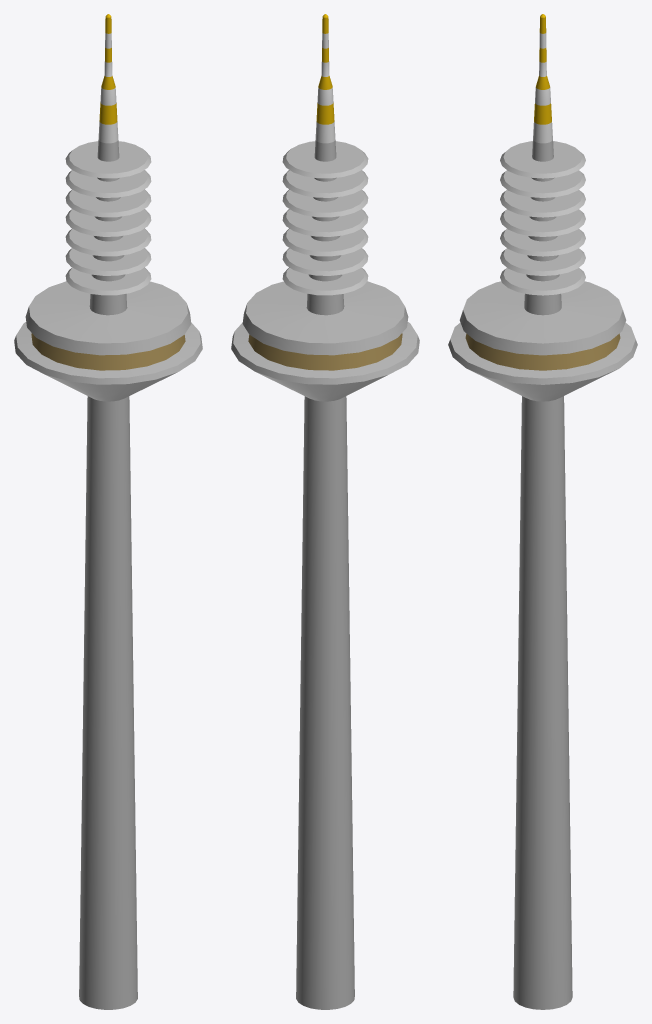
The model's file is europaturm.fbx.
3 views of the same model, side by side, from view 1: azimuth 30°, elevation 25°; view 2: azimuth 150°, elevation 25°; view 3: azimuth 270°, elevation 25° (orthographic).
Parts seen in each view (by area): view 1: europaturm; view 2: europaturm; view 3: europaturm.
Boxes of the visible parts, left/top/right/bottom form: europaturm: left=14, top=14, right=202, bottom=1009; europaturm: left=231, top=14, right=419, bottom=1009; europaturm: left=448, top=14, right=637, bottom=1009.
Size of the model in its own units: 6.41 by 36.67 by 6.41.
